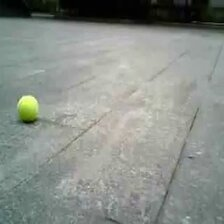tennis: (18, 95, 37, 121)
